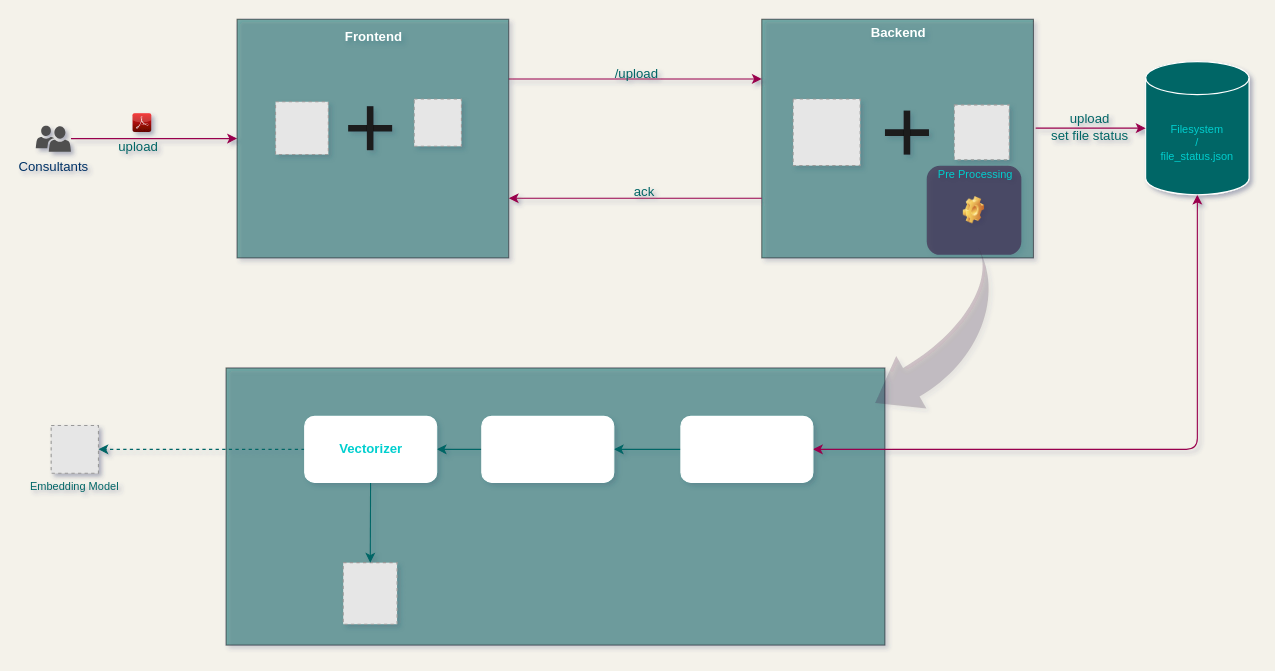
This 1275x671 diagram has some shape labels left out. Grey dashed boxes stand in for pictures. The shapes that lost their labels are listed below. From the top down, each one's box as (x1, y1, x2, y2) in pixels, then its label:
(481, 415, 614, 482): PDF Loader + Chunker
(680, 415, 813, 482): Get Files
